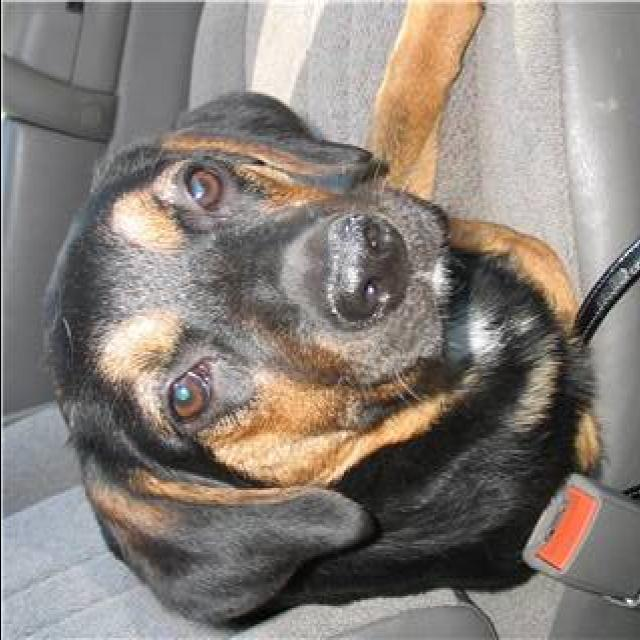dog: (33, 0, 640, 640)
